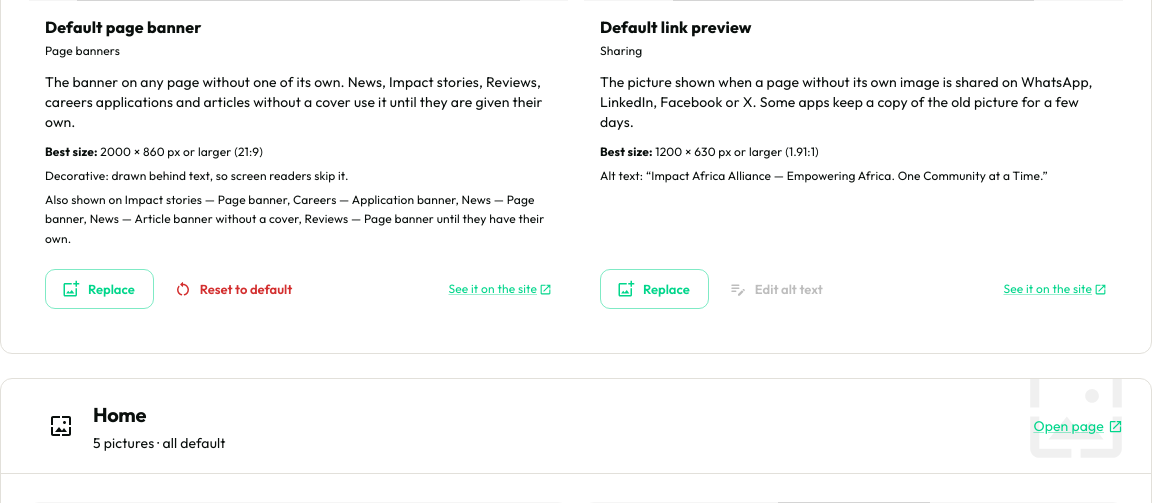
Test: the site images page › warns that resetting the default banner resets the banners sharing it
(page scrolled)
Click the button "Reset to default". click: [234, 289]
box: 158,269 -> 310,309
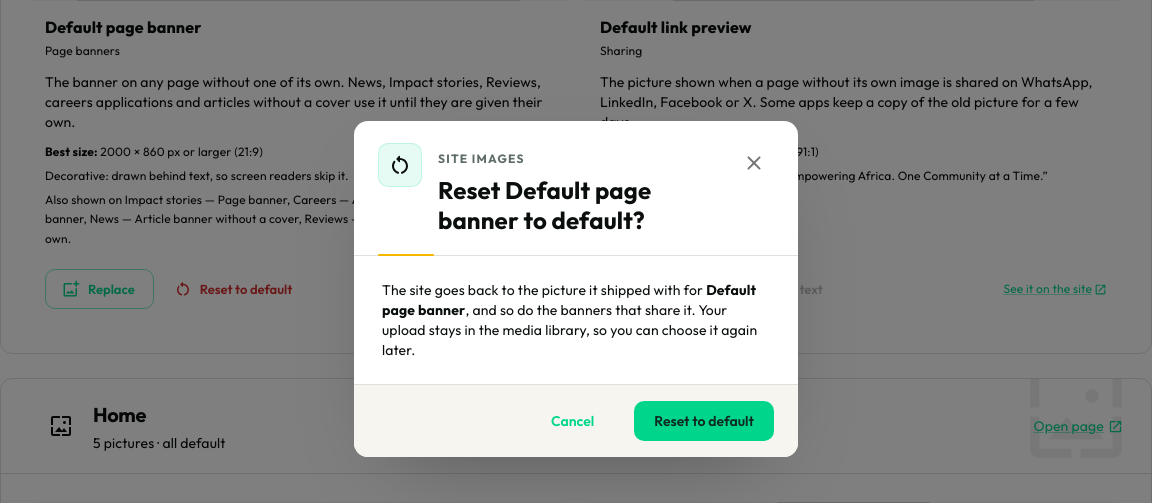
expect the dialog "Reset Default page banner to default?" shows "and so do the banners that share it": met, box 465,301 -> 692,319
